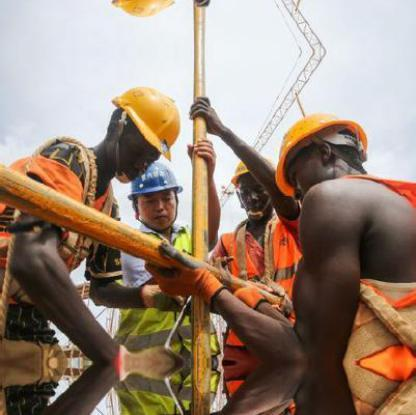helmet: (272, 103, 371, 200), (107, 70, 184, 164), (115, 160, 187, 207), (226, 149, 275, 188)
